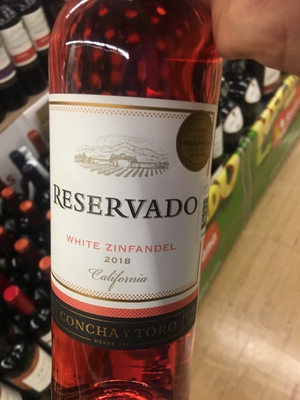reservado white zinfandel: (43, 5, 224, 399)
